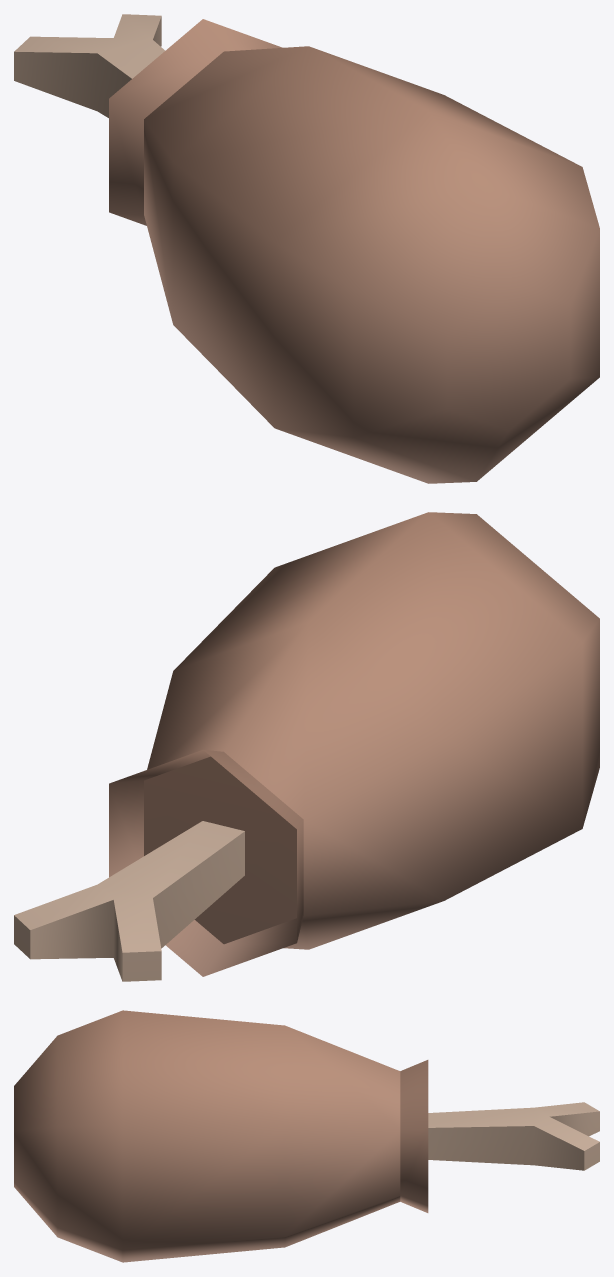
The model's file is wholer-ham.glb.
The picture shows the model from 3 angles, top to bottom: view 1: azimuth 30°, elevation 25°; view 2: azimuth 150°, elevation 25°; view 3: azimuth 270°, elevation 25°; orthographic projection. The views are drawn at different scales.
Visible parts, largest first — view 1: wholer-ham; view 2: wholer-ham; view 3: wholer-ham.
Boxes of the visible parts, x1=… form: wholer-ham: x1=14, y1=14, x2=599, y2=483; wholer-ham: x1=14, y1=512, x2=599, y2=981; wholer-ham: x1=14, y1=1010, x2=599, y2=1262.
Size of the model in its own units: 0.3411 by 0.3938 by 0.8294.
